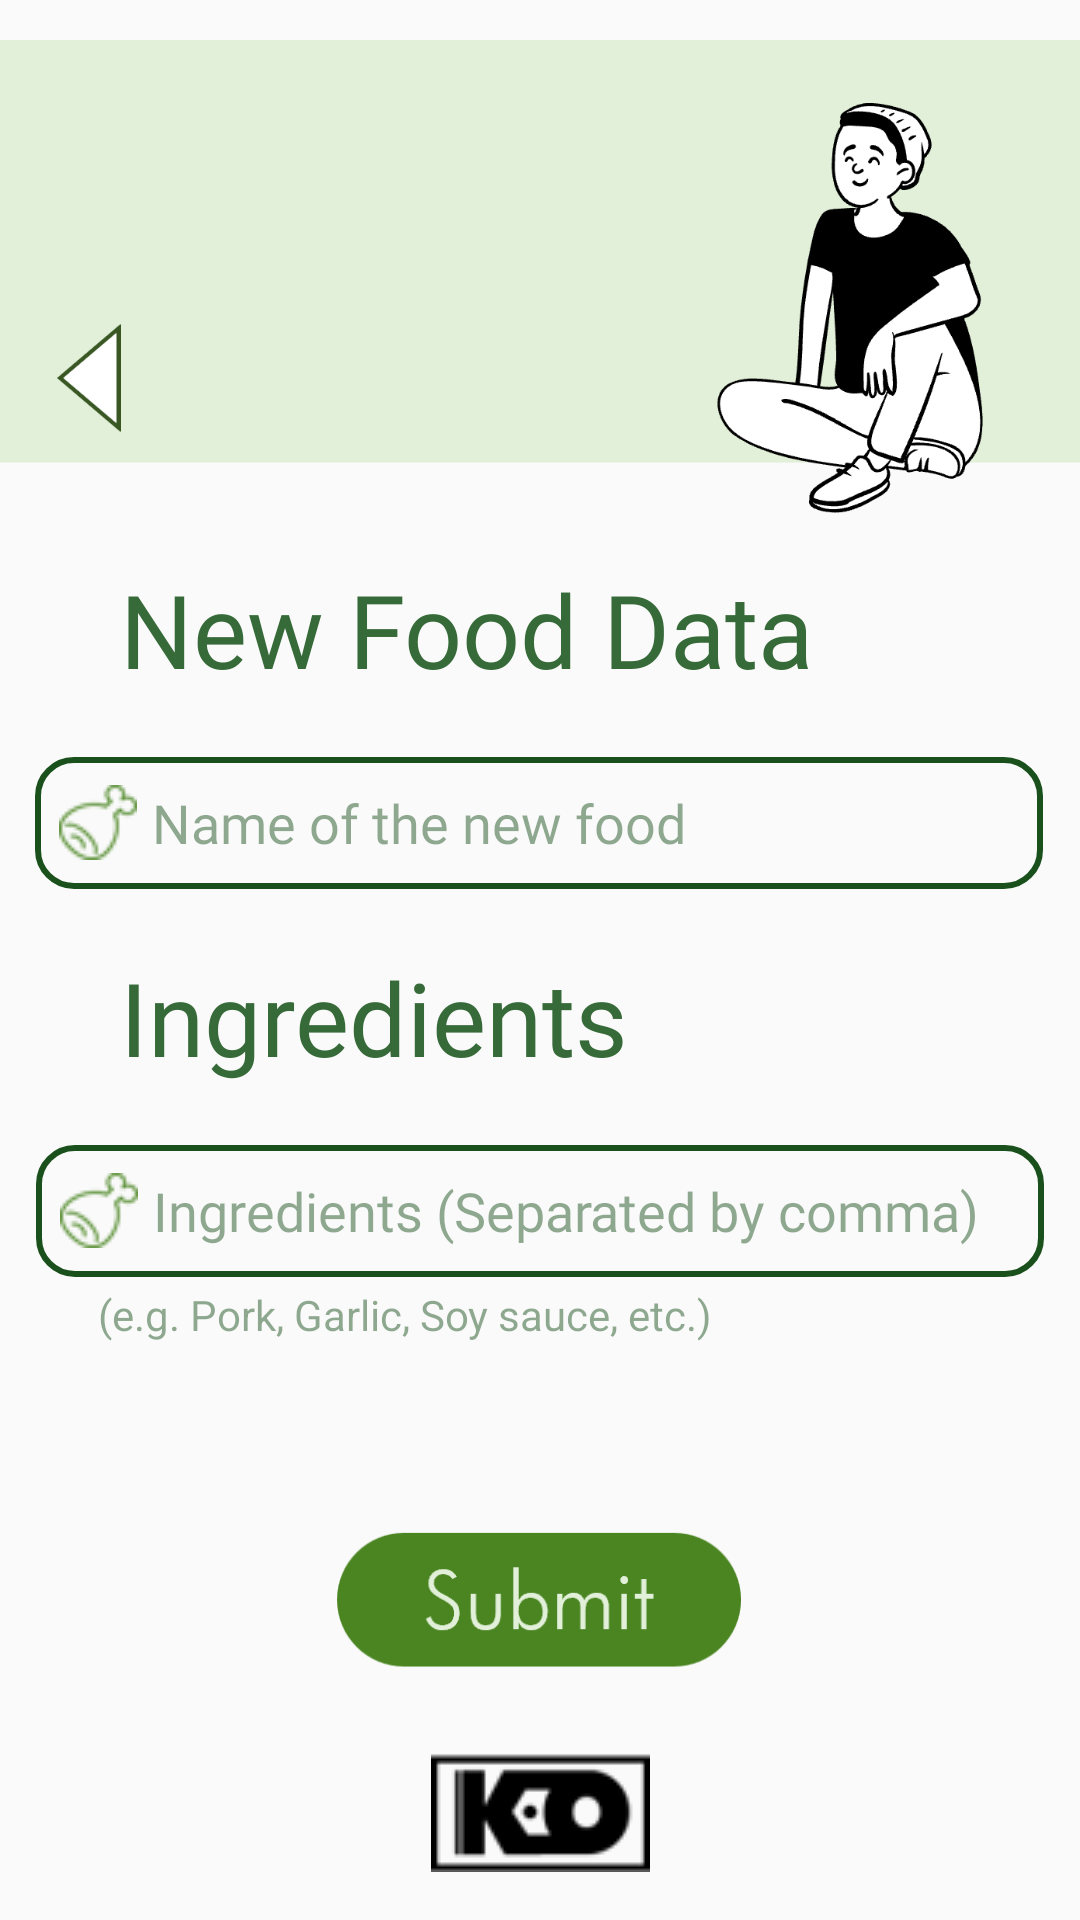

Icon click points for this 1080 x 1920 phone screenshot, format [x,y]:
back: [89,378]
